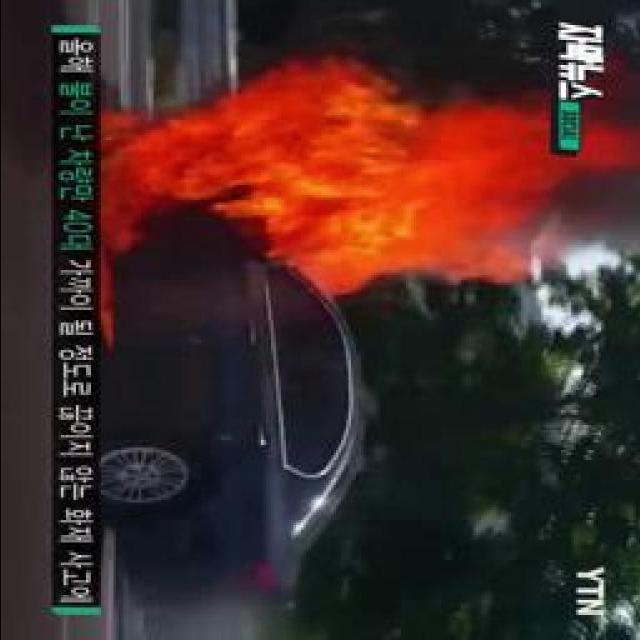Fire: (98, 84, 554, 270)
